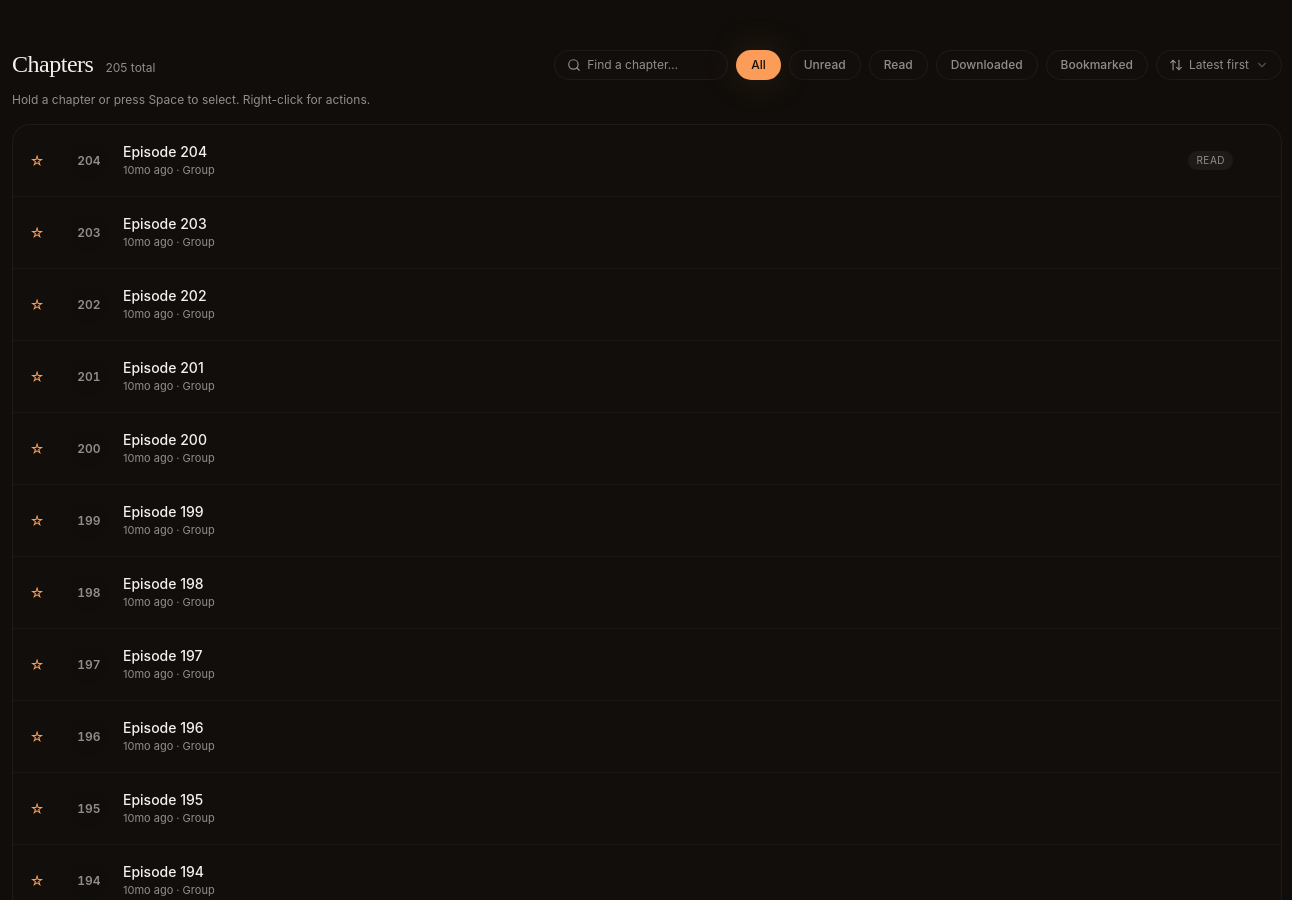
Test: v2 chapter filters › uses completed downloads for offline filters and keeps bookmarked chapters discoverable
The image size is (1292, 900).
Click the button "Downloaded": [987, 65] box [936,50,1038,80]
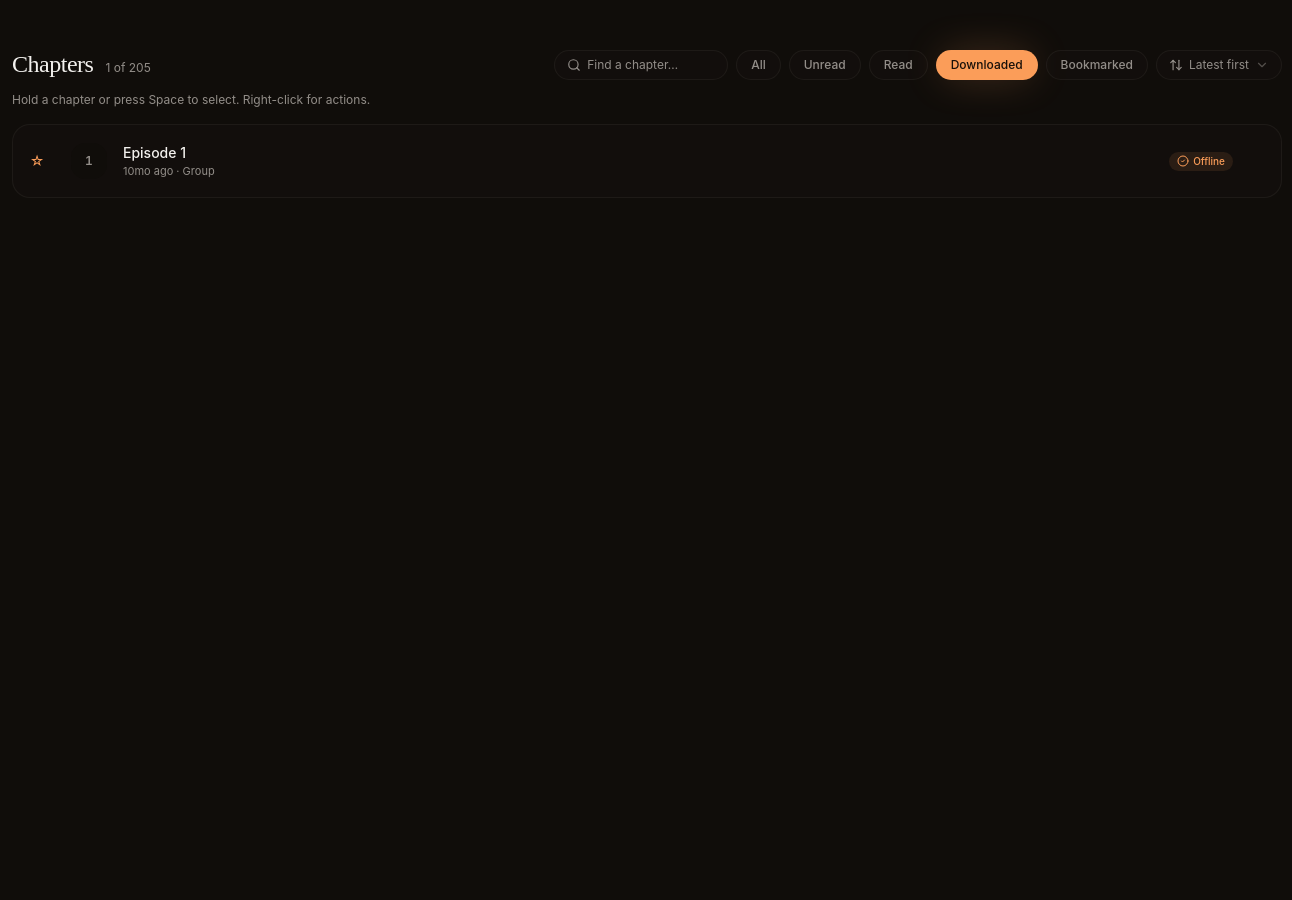
expect the number of links is 1: met, box [71,143,1233,179]
expect the link shows "Episode 1": met, box [71,143,1233,179]
Click the button "Bookmarked": [1097, 65] box [1046,50,1148,80]
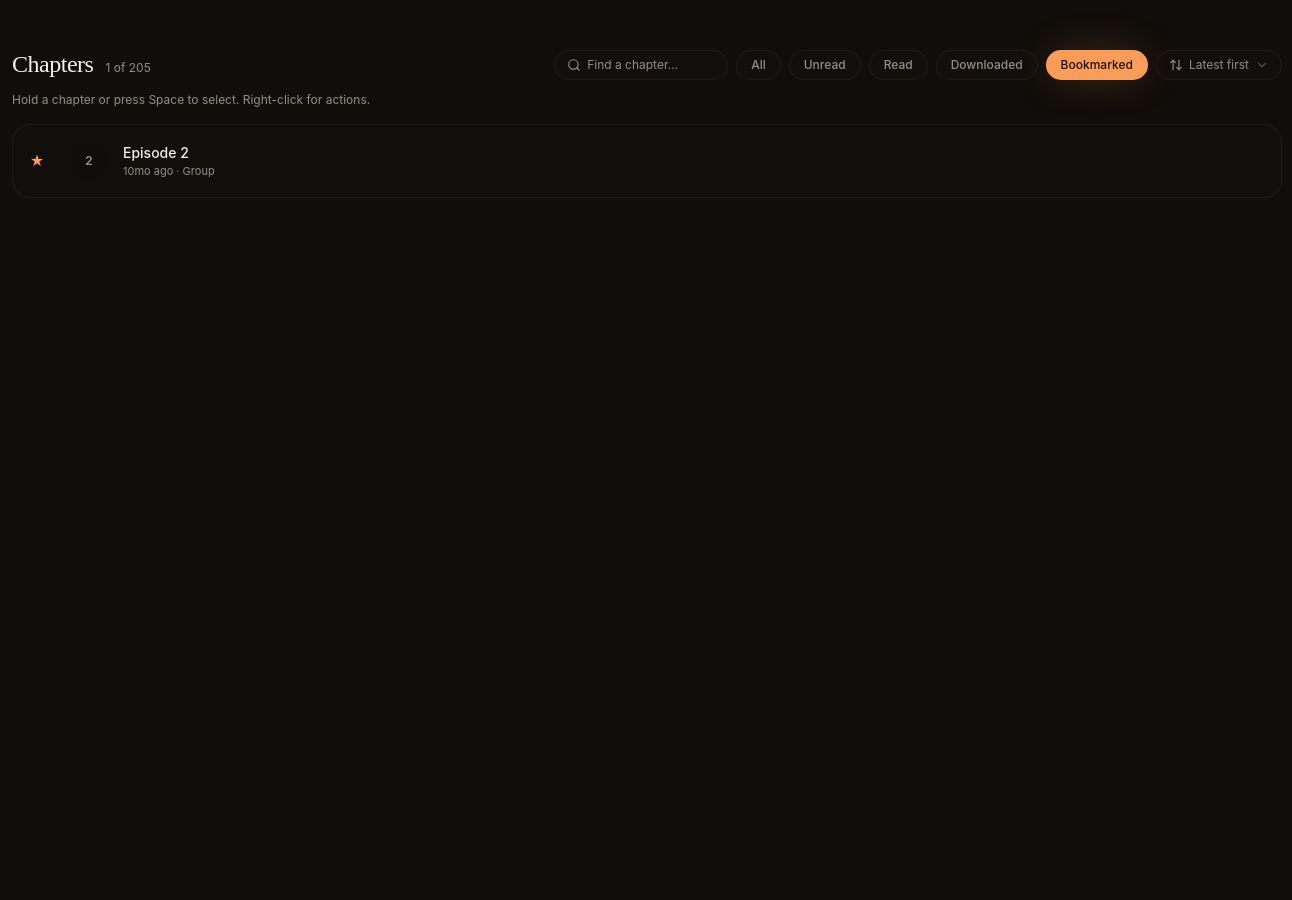
expect the number of links is 1: met, box [71,143,215,179]
expect the link shows "Episode 2": met, box [71,143,215,179]
